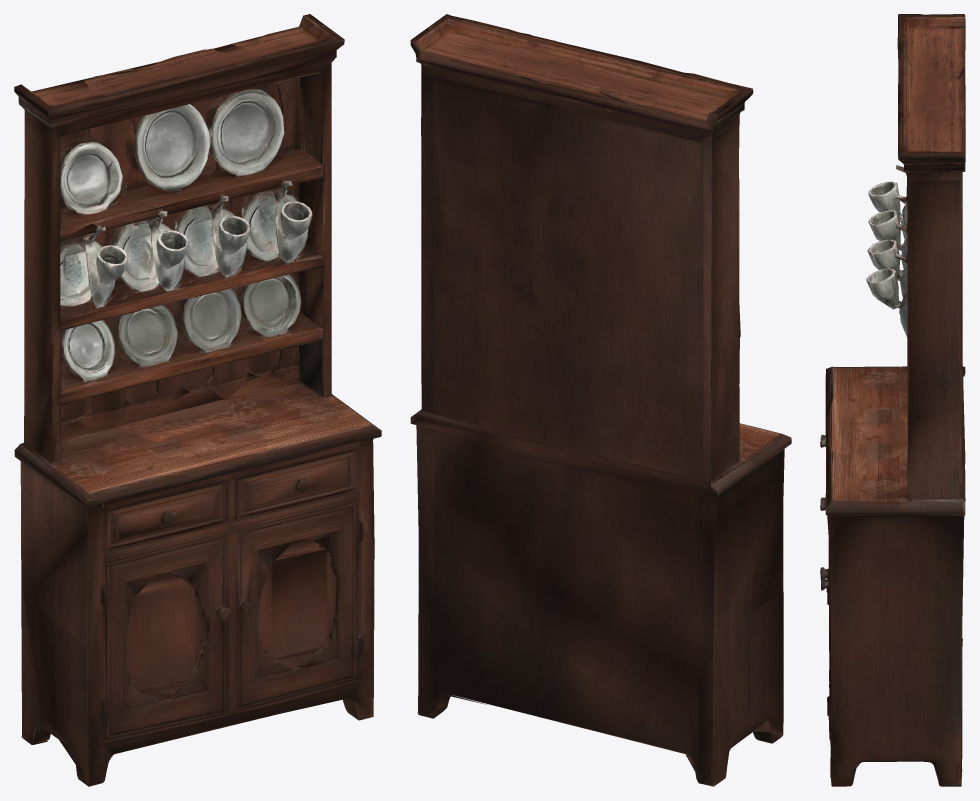
File: tavern-serving-dresser.glb
The picture shows the model from 3 angles, left to right: view 1: azimuth 30°, elevation 25°; view 2: azimuth 150°, elevation 25°; view 3: azimuth 270°, elevation 25°; orthographic projection. The views are drawn at different scales.
Visible parts, largest first — view 1: Mesh_0; view 2: Mesh_0; view 3: Mesh_0.
Part boxes in pixels (bbox=[...]): Mesh_0: bbox=[14, 14, 381, 786]; Mesh_0: bbox=[410, 14, 791, 786]; Mesh_0: bbox=[820, 14, 965, 786].
Size of the model in its own units: 0.9047 by 1.9 by 0.3944.
1 material, 1 textured.
